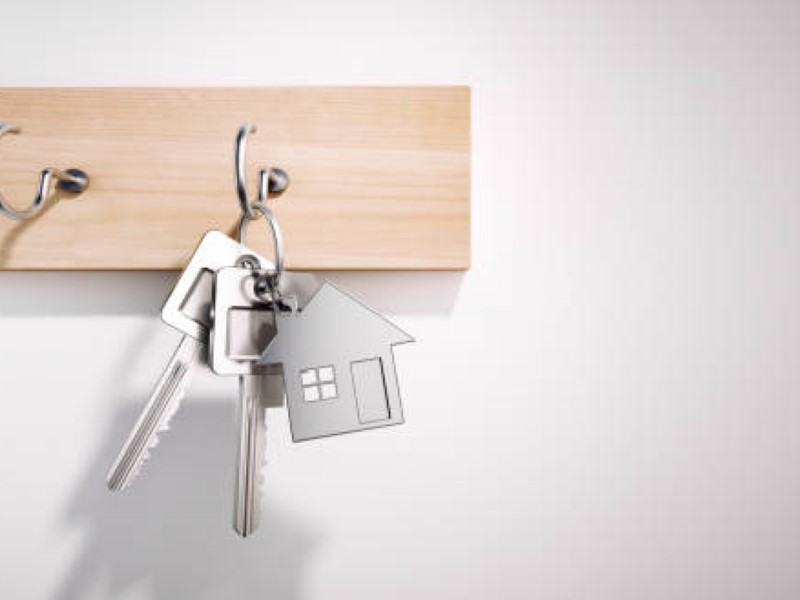key: (101, 225, 312, 539)
